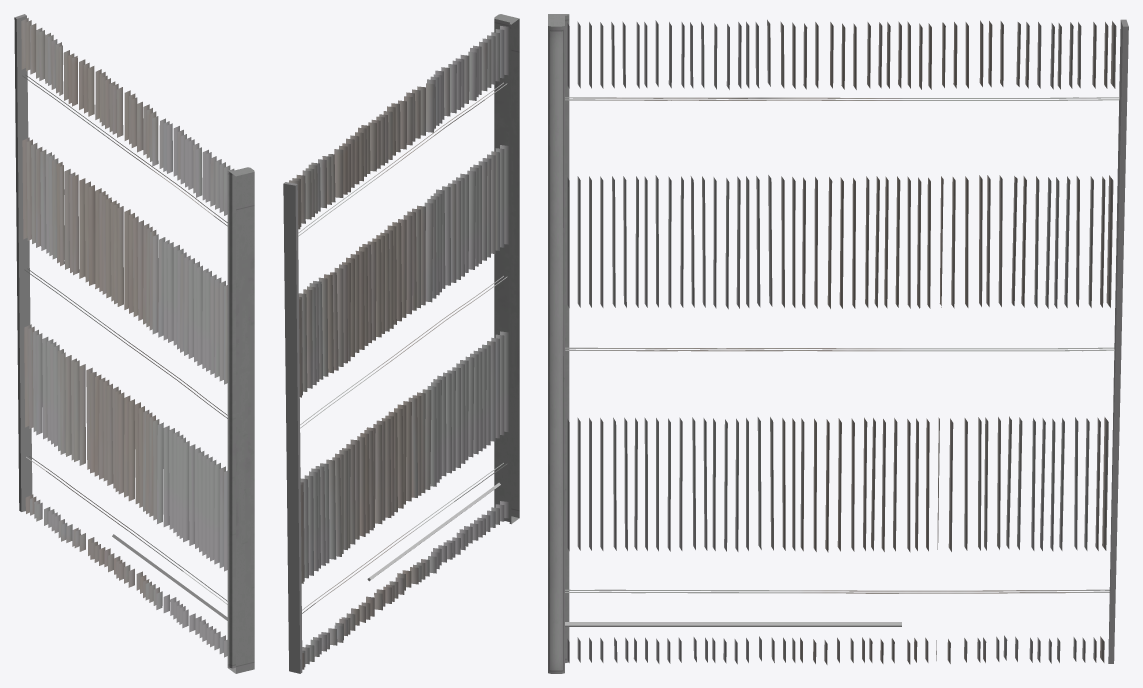
File: venetian_blind_white_open_128x96_LOD0.obj
3 renders of one model, left to right at view 1: azimuth 30°, elevation 25°; view 2: azimuth 150°, elevation 25°; view 3: azimuth 270°, elevation 25°, orthographic. The views are drawn at different scales.
Parts seen in each view (by area): view 1: mtl_plastic_windowshade_white, mtl_plastic_windowshade_white_top1, mtl_windowshade_string; view 2: mtl_plastic_windowshade_white, mtl_plastic_windowshade_white_top1, mtl_windowshade_string; view 3: mtl_plastic_windowshade_white, mtl_plastic_windowshade_white_top1, mtl_windowshade_string.
Boxes of the visible parts, x1,y1,x2,y2 form: mtl_plastic_windowshade_white: [21, 18, 234, 657]; mtl_plastic_windowshade_white_top1: [14, 14, 254, 673]; mtl_windowshade_string: [22, 74, 227, 604]; mtl_plastic_windowshade_white: [289, 26, 508, 669]; mtl_plastic_windowshade_white_top1: [283, 14, 519, 673]; mtl_windowshade_string: [298, 82, 507, 613]; mtl_plastic_windowshade_white: [566, 19, 1116, 664]; mtl_plastic_windowshade_white_top1: [548, 14, 1128, 673]; mtl_windowshade_string: [565, 97, 1119, 593].
Bounding box in the file's own units: 13.56 × 324 × 263.
